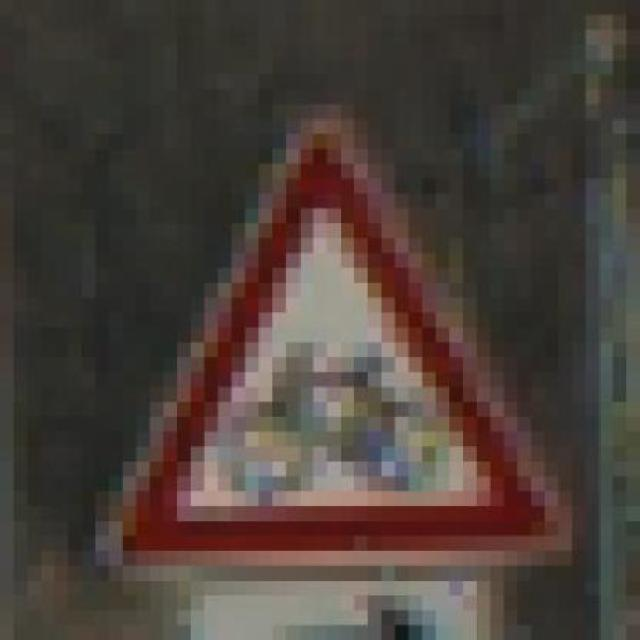CYCLE ROUTE AHEAD WARNING: (68, 74, 586, 566)
